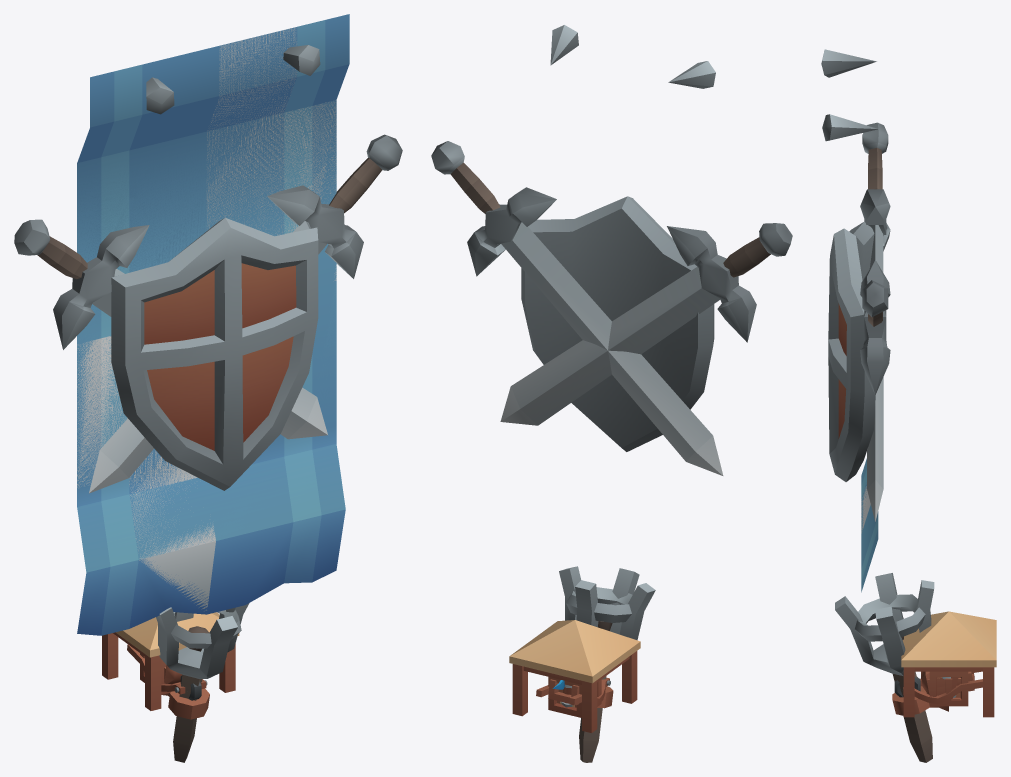
File: scenery.glb
The picture shows the model from 3 angles, left to right: view 1: azimuth 30°, elevation 25°; view 2: azimuth 150°, elevation 25°; view 3: azimuth 270°, elevation 25°; orthographic projection. The views are drawn at different scales.
Visible parts, largest first — view 1: banner_blue, banner_shield_white, banner_patternA_blue, torch_mounted, tent, wheelbarrow; view 2: banner_shield_white, tent, torch_mounted, banner_blue, wheelbarrow, crate_A_big; view 3: banner_shield_white, torch_mounted, tent, banner_blue, wheelbarrow, crate_A_big, banner_patternA_blue.
Boxes of the visible parts, <box> form: banner_blue: <box>77,14,349,635</box>; banner_shield_white: <box>14,134,402,493</box>; banner_patternA_blue: <box>77,27,336,611</box>; torch_mounted: <box>156,603,249,762</box>; tent: <box>102,612,239,710</box>; wheelbarrow: <box>127,644,207,700</box>; banner_shield_white: <box>431,141,792,475</box>; tent: <box>509,620,640,732</box>; torch_mounted: <box>559,566,655,762</box>; banner_blue: <box>550,25,715,88</box>; wheelbarrow: <box>536,677,610,705</box>; crate_A_big: <box>548,677,601,717</box>; banner_shield_white: <box>828,122,890,521</box>; torch_mounted: <box>835,573,948,762</box>; tent: <box>901,611,996,717</box>; banner_blue: <box>821,49,878,592</box>; wheelbarrow: <box>894,671,982,706</box>; crate_A_big: <box>929,671,968,706</box>; banner_patternA_blue: <box>861,486,877,566</box>.
Size of the model in its own units: 2.23 by 4.11 by 0.9475.
Materials: 2 (2 with a texture image).
